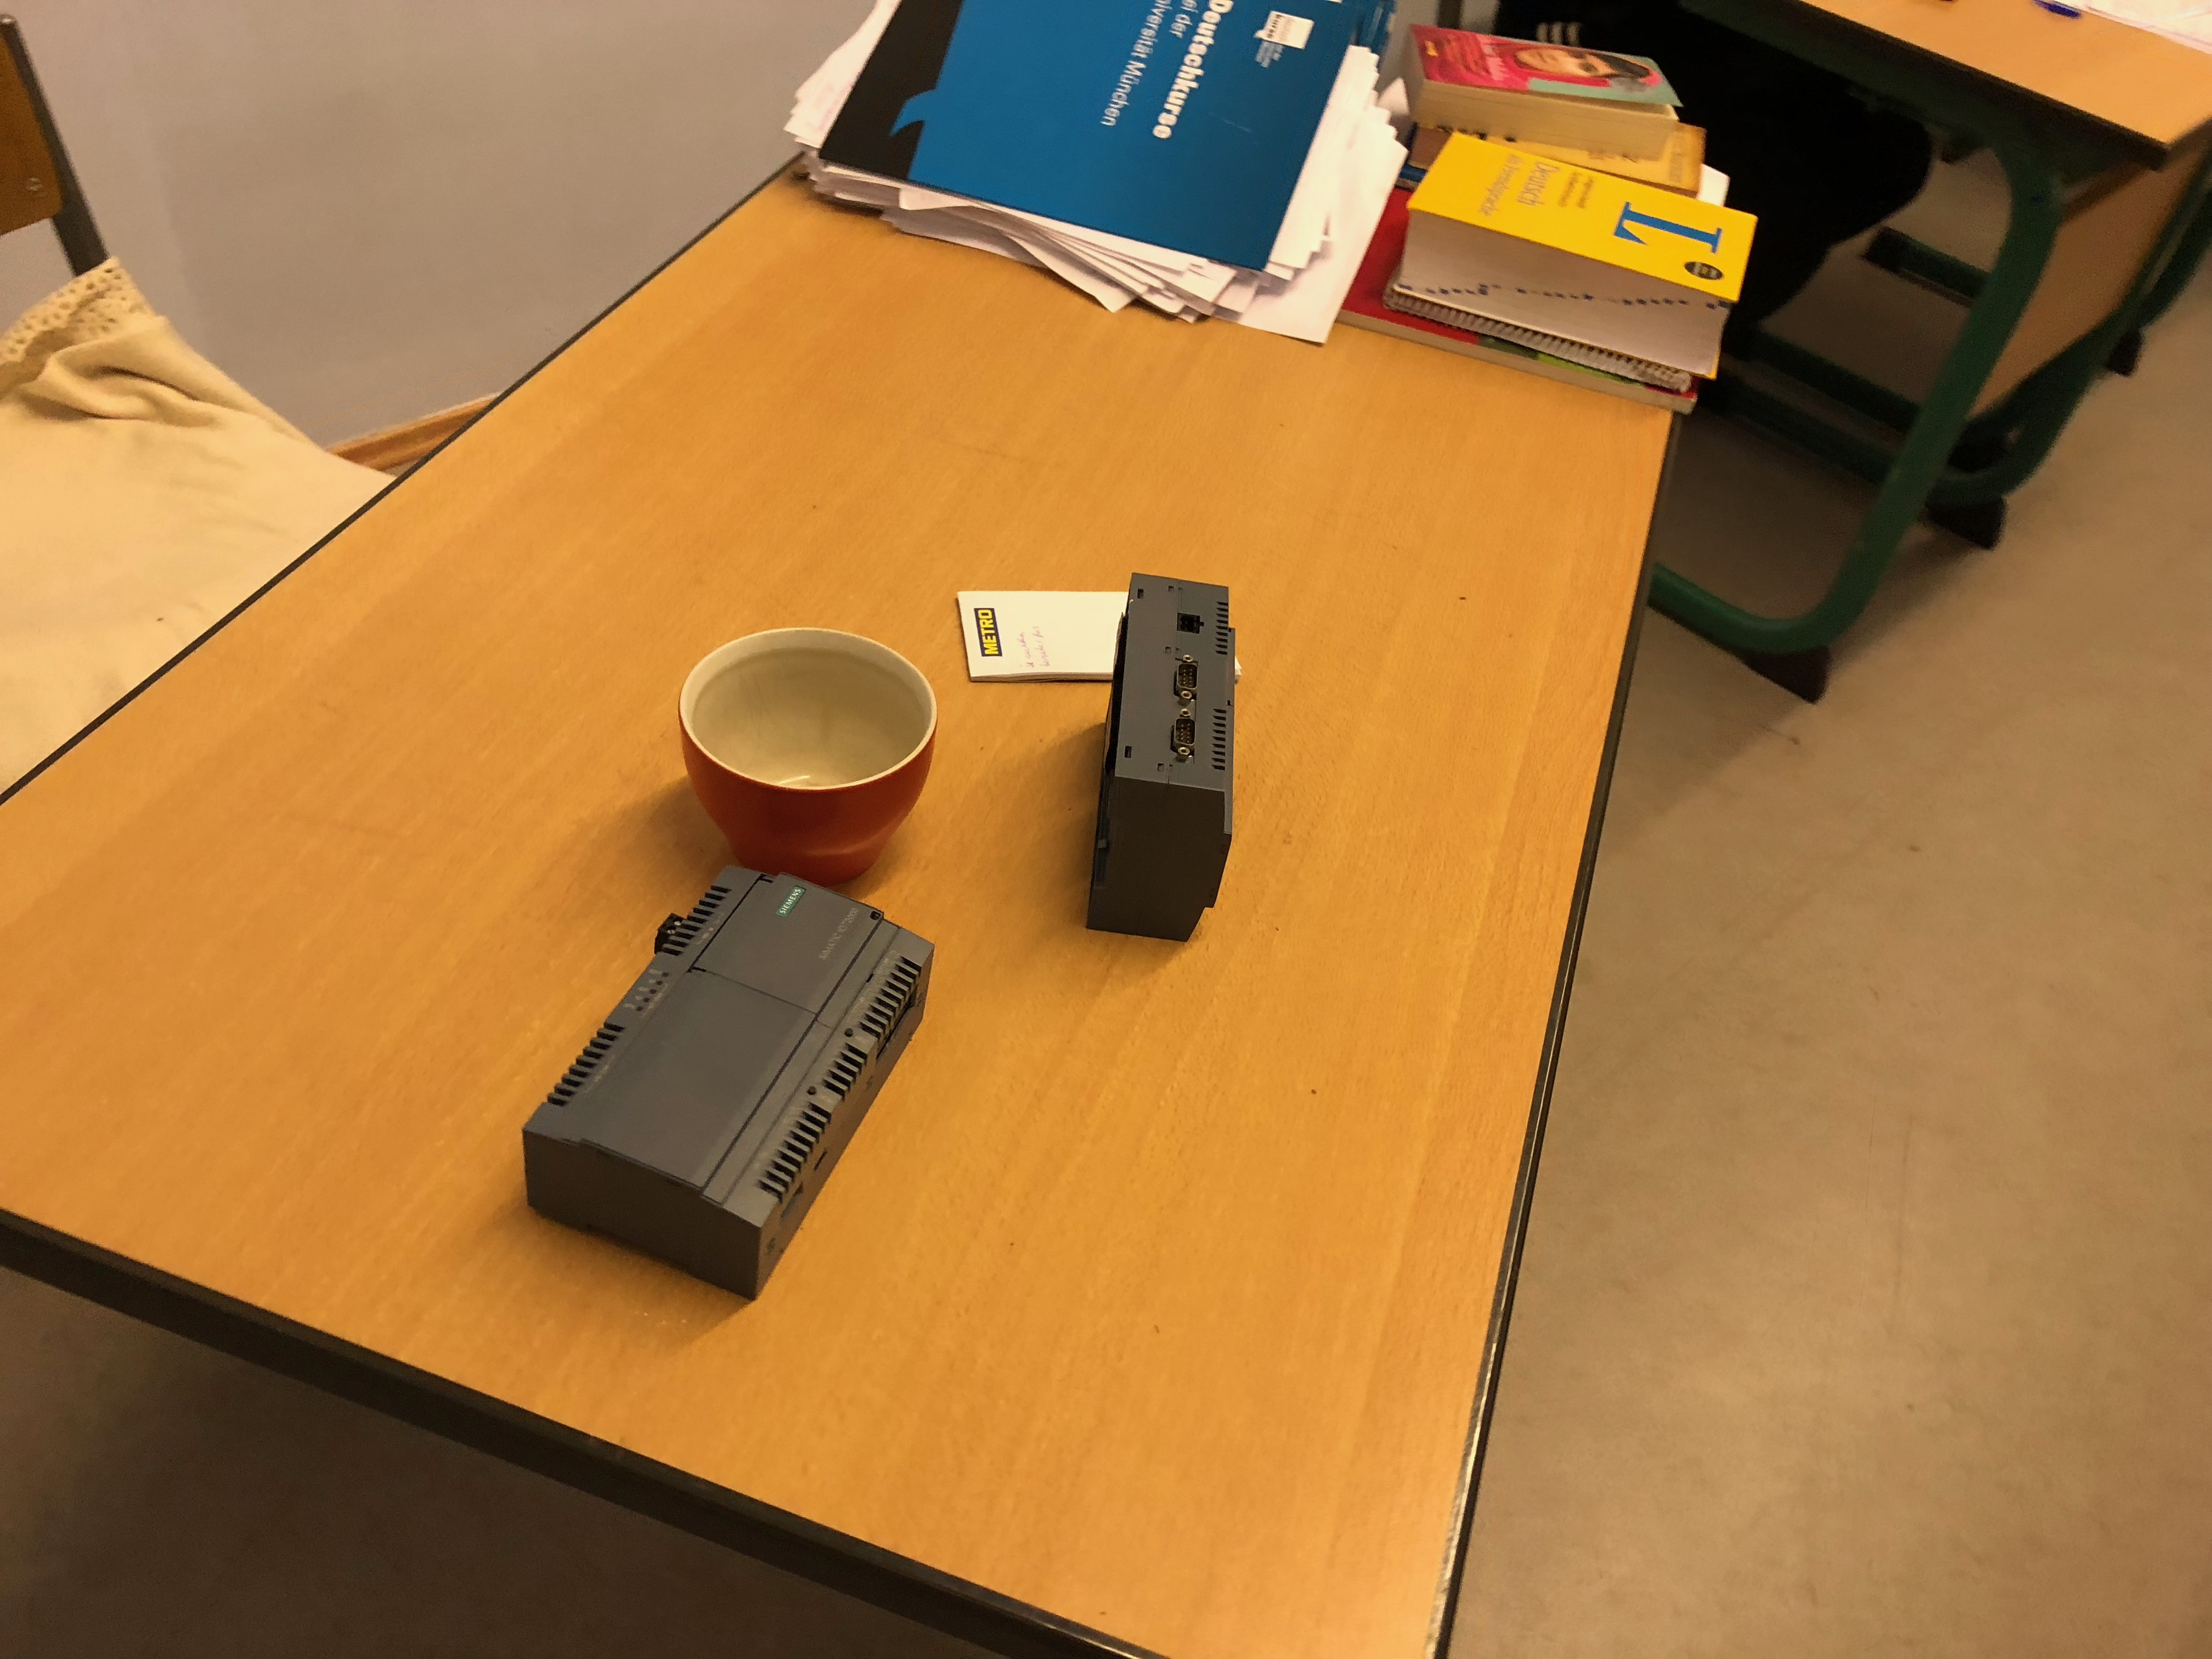device: (523, 864, 935, 1302), (1087, 572, 1237, 943)
